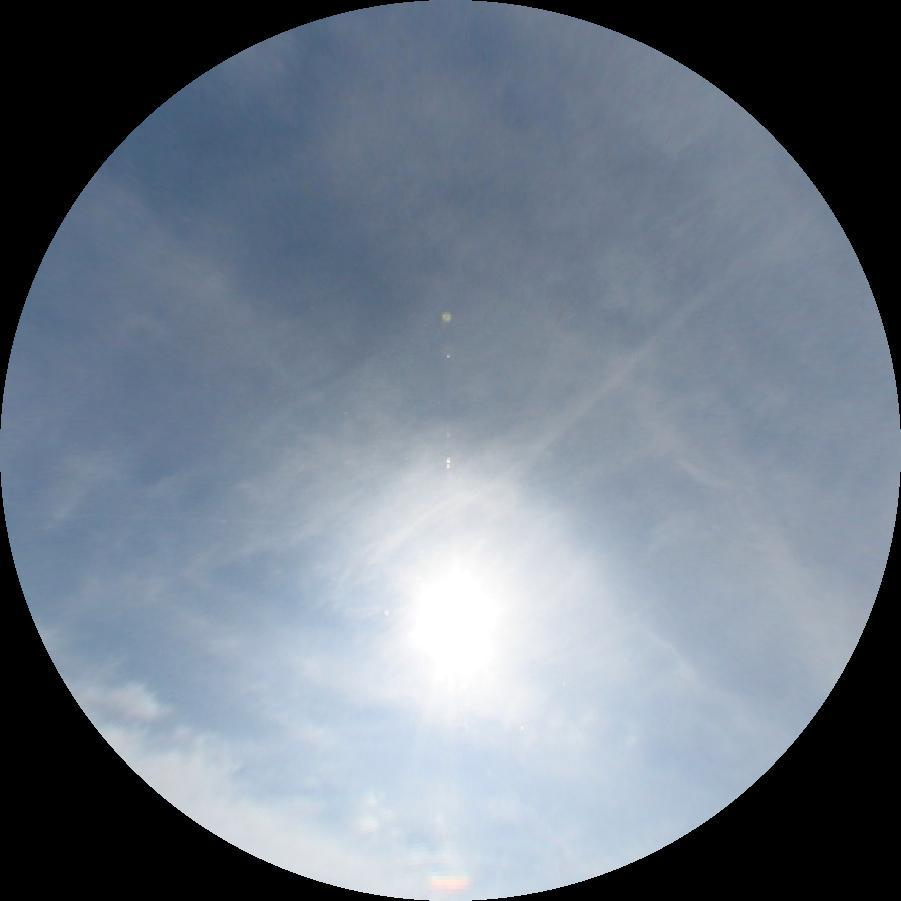contrail veryold: (369, 234, 795, 589)
sun: (404, 563, 505, 691)
